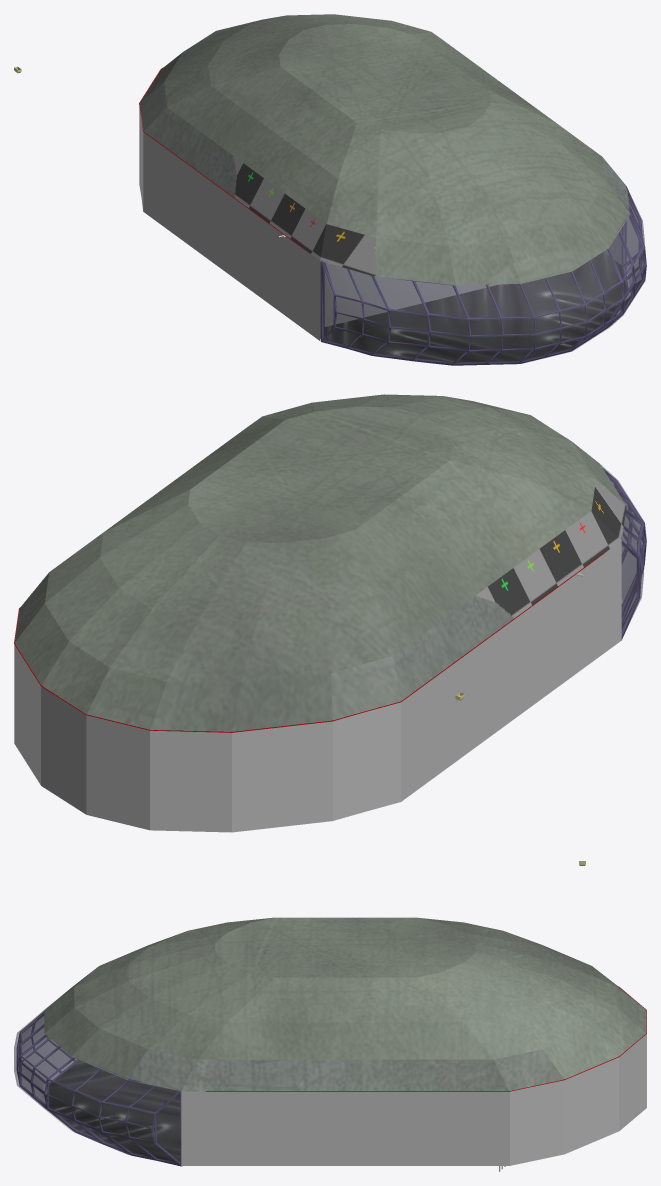
Rendered from Alienship2.fbx.
The picture shows the model from 3 angles, top to bottom: view 1: azimuth 30°, elevation 25°; view 2: azimuth 150°, elevation 25°; view 3: azimuth 270°, elevation 25°; orthographic projection. The views are drawn at different scales.
Visible parts, largest first — view 1: Roof out, AlienshipHull Out, Window In, AlienshipHull In, Walls; view 2: Roof out, AlienshipHull Out, Window In, UpperFloor; view 3: Roof out, AlienshipHull Out, Window In, AlienshipHull In, UpperFloor.
Part boxes in pixels (bbox=[...]): Roof out: bbox=[139, 14, 630, 285]; AlienshipHull Out: bbox=[139, 107, 646, 365]; Window In: bbox=[321, 186, 646, 365]; AlienshipHull In: bbox=[320, 229, 625, 361]; Walls: bbox=[325, 263, 498, 326]; Roof out: bbox=[14, 394, 626, 731]; AlienshipHull Out: bbox=[14, 464, 646, 832]; Window In: bbox=[603, 468, 646, 640]; UpperFloor: bbox=[14, 552, 605, 732]; Roof out: bbox=[44, 917, 646, 1091]; AlienshipHull Out: bbox=[14, 993, 646, 1165]; Window In: bbox=[16, 1011, 182, 1166]; AlienshipHull In: bbox=[49, 1061, 179, 1161]; UpperFloor: bbox=[206, 986, 646, 1091].
Bounding box in the file's own units: 15.51 × 6.3 × 23.11.
